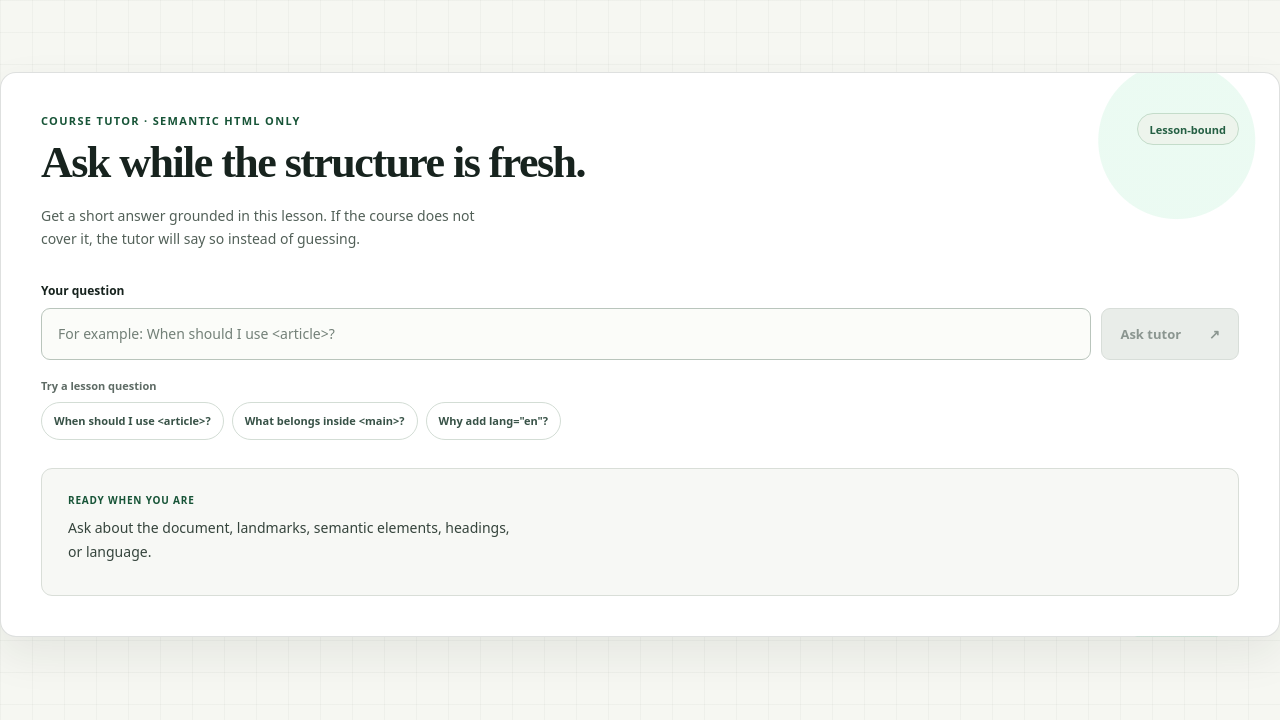
SemanticHtmlTutor › shows a bounded fallback for unsupported questions
The width and height of the screenshot is (1280, 720).
In the field labelled "Your question": (566, 334) top-left (41, 308), bottom-right (1091, 360), type "Can you teach me JavaScript promises?"
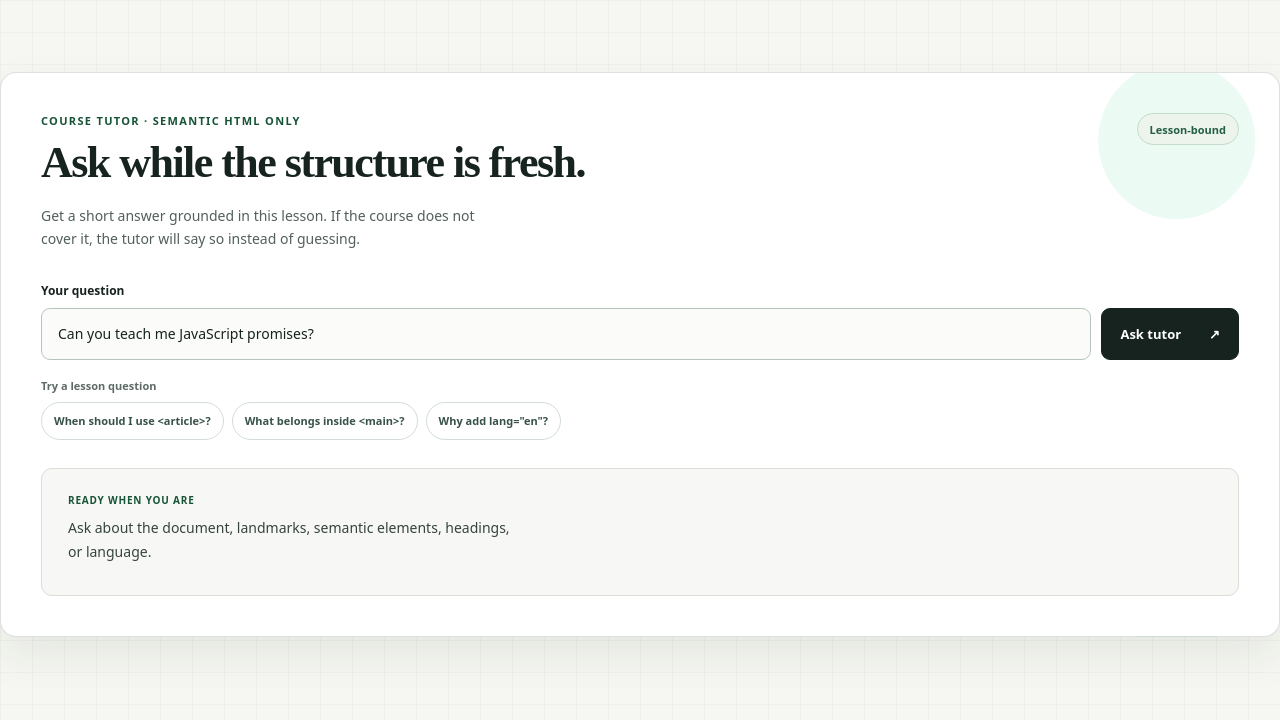
Click the button "Ask tutor ↗": (1170, 334) top-left (1101, 308), bottom-right (1239, 360)
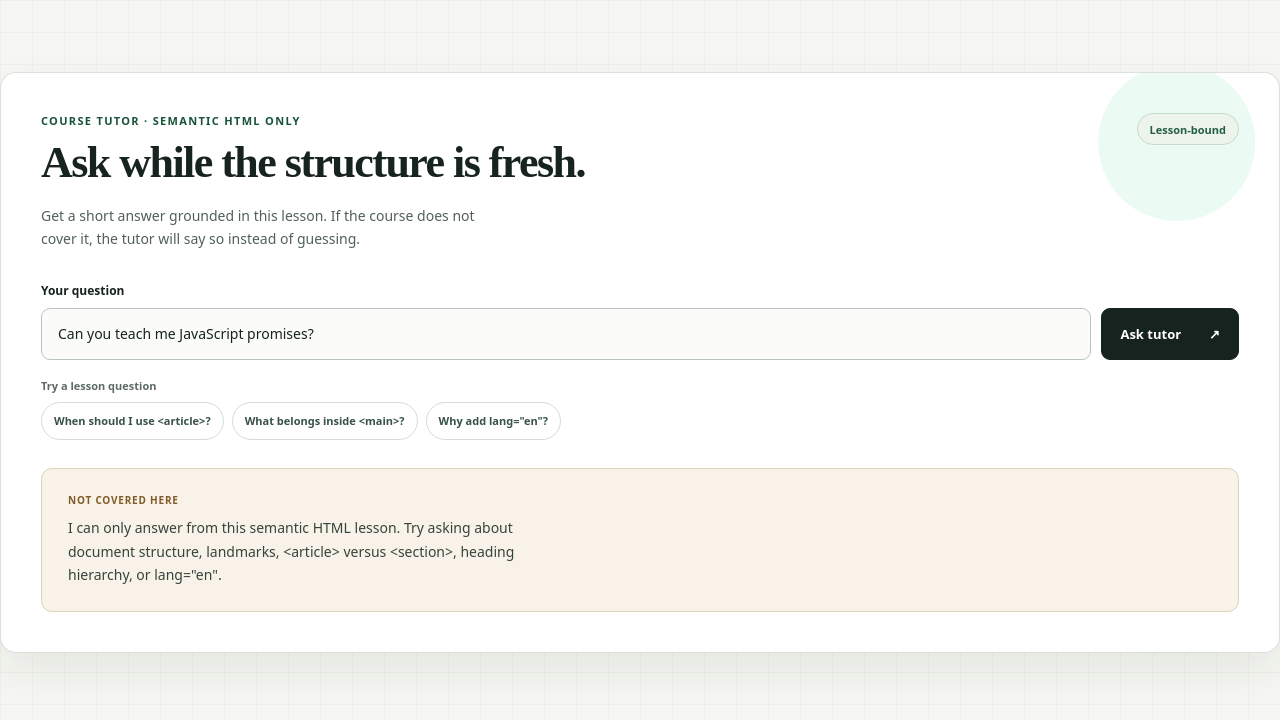
Now the message shows "Not covered here", box top-left (68, 493), bottom-right (179, 507)
Now the message shows "I can only answer from this semantic HTML lesson.", box top-left (68, 518), bottom-right (514, 584)
